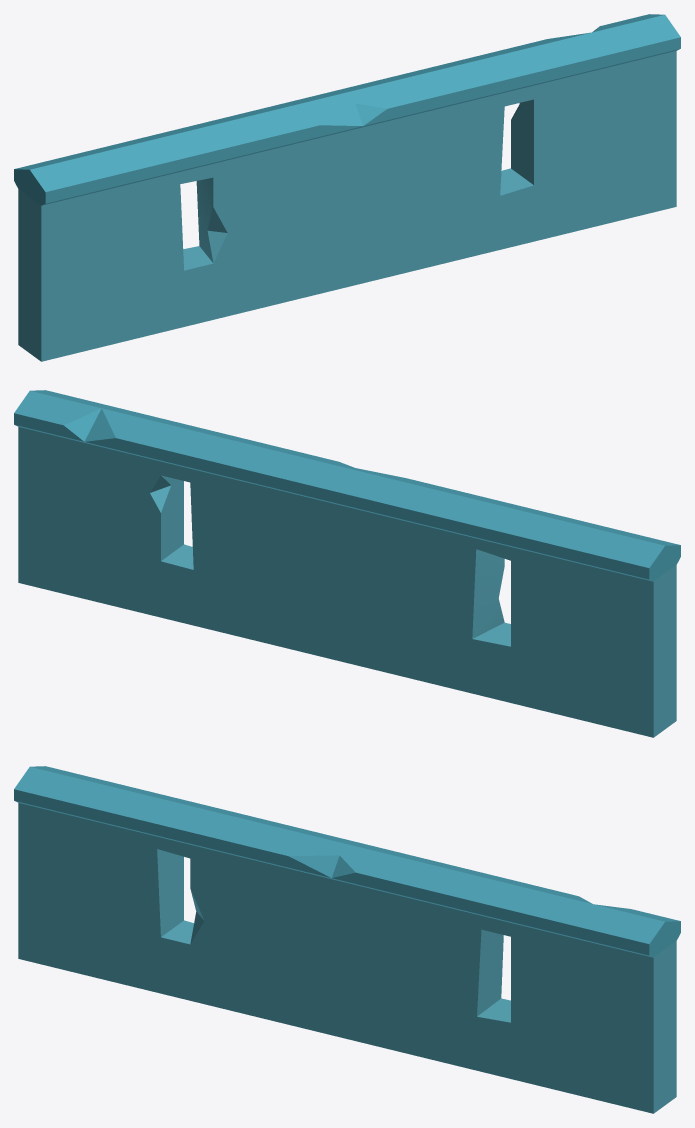
The model's file is SM_Bld_Stone_Wall_01.glb.
The picture shows the model from 3 angles, top to bottom: view 1: azimuth 30°, elevation 25°; view 2: azimuth 150°, elevation 25°; view 3: azimuth 330°, elevation 25°; orthographic projection.
Parts seen in each view (by area): view 1: SM_Bld_Stone_Wall_01; view 2: SM_Bld_Stone_Wall_01; view 3: SM_Bld_Stone_Wall_01.
Boxes of the visible parts, x1,y1,x2,y2 form: SM_Bld_Stone_Wall_01: (14, 14, 680, 361); SM_Bld_Stone_Wall_01: (14, 390, 680, 737); SM_Bld_Stone_Wall_01: (14, 766, 680, 1113).
Size of the model in its own units: 0.05 by 0.0138 by 0.0043.
